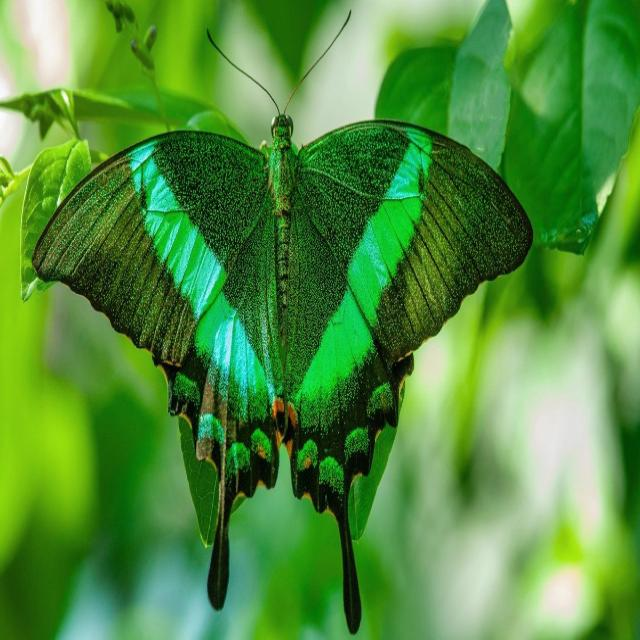butterfly: (33, 10, 532, 633)
